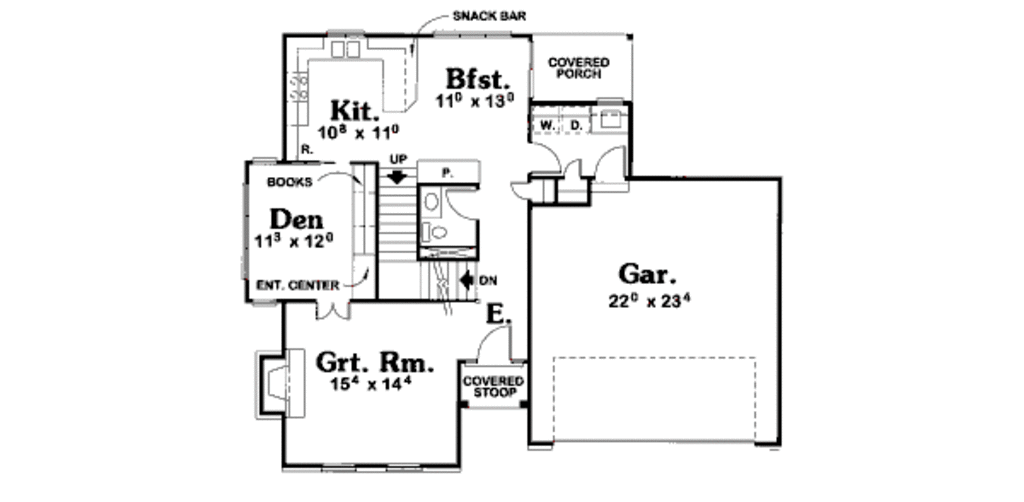door: (471, 326, 521, 367), (592, 143, 630, 181), (444, 185, 481, 223), (314, 293, 354, 326), (531, 140, 562, 175), (509, 176, 534, 203)
large_sink: (420, 219, 450, 250)
stairs: (378, 150, 426, 264)
twin_sink: (320, 34, 365, 70)
window: (315, 457, 425, 475), (428, 26, 517, 46), (238, 176, 253, 279)
